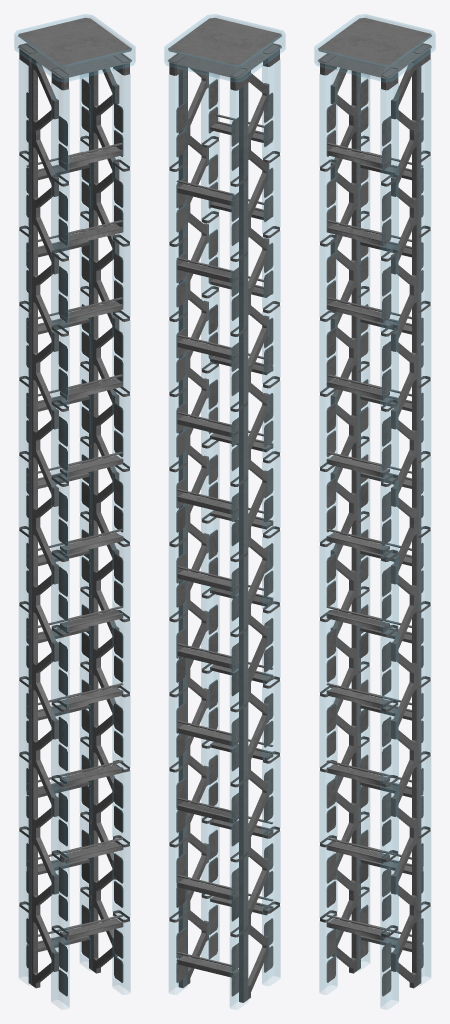
The model's file is stair.fbx.
3 renders of one model, left to right at view 1: azimuth 30°, elevation 25°; view 2: azimuth 150°, elevation 25°; view 3: azimuth 330°, elevation 25°, orthographic.
Visible parts, largest first — view 1: Cube.255; view 2: Cube.255; view 3: Cube.255.
Boxes of the visible parts, box(x1,y1,x2,y2) form: Cube.255: box(14, 14, 135, 1009); Cube.255: box(164, 14, 285, 1009); Cube.255: box(314, 14, 435, 1009).
Bounding box in the file's own units: 1065 × 12270 × 1157.
